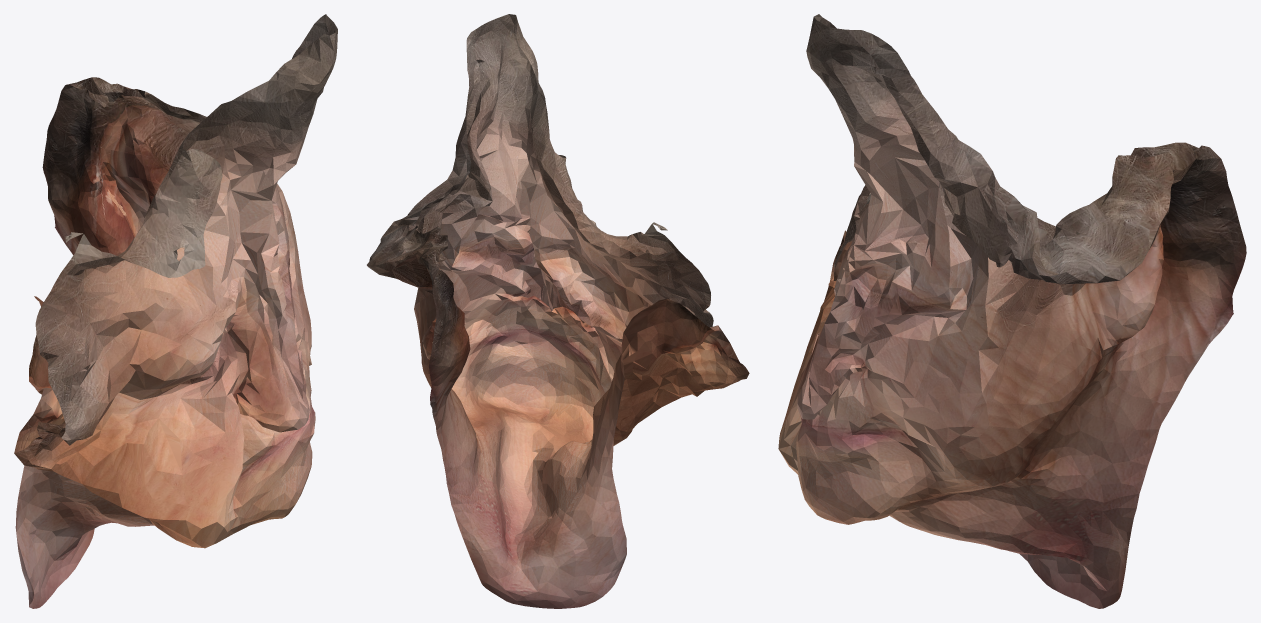
The model's file is BUSTO_5.gltf.
3 renders of one model, left to right at view 1: azimuth 30°, elevation 25°; view 2: azimuth 150°, elevation 25°; view 3: azimuth 270°, elevation 25°, orthographic. The views are drawn at different scales.
Parts seen in each view (by area): view 1: Scan_19_Madrinha; view 2: Scan_19_Madrinha; view 3: Scan_19_Madrinha.
Boxes of the visible parts, bbox=[...] form: Scan_19_Madrinha: bbox=[14, 14, 337, 608]; Scan_19_Madrinha: bbox=[367, 14, 749, 608]; Scan_19_Madrinha: bbox=[778, 14, 1246, 608].
Size of the model in its own units: 2.65 by 4.28 by 2.71.
Materials: 1 (1 with a texture image).
